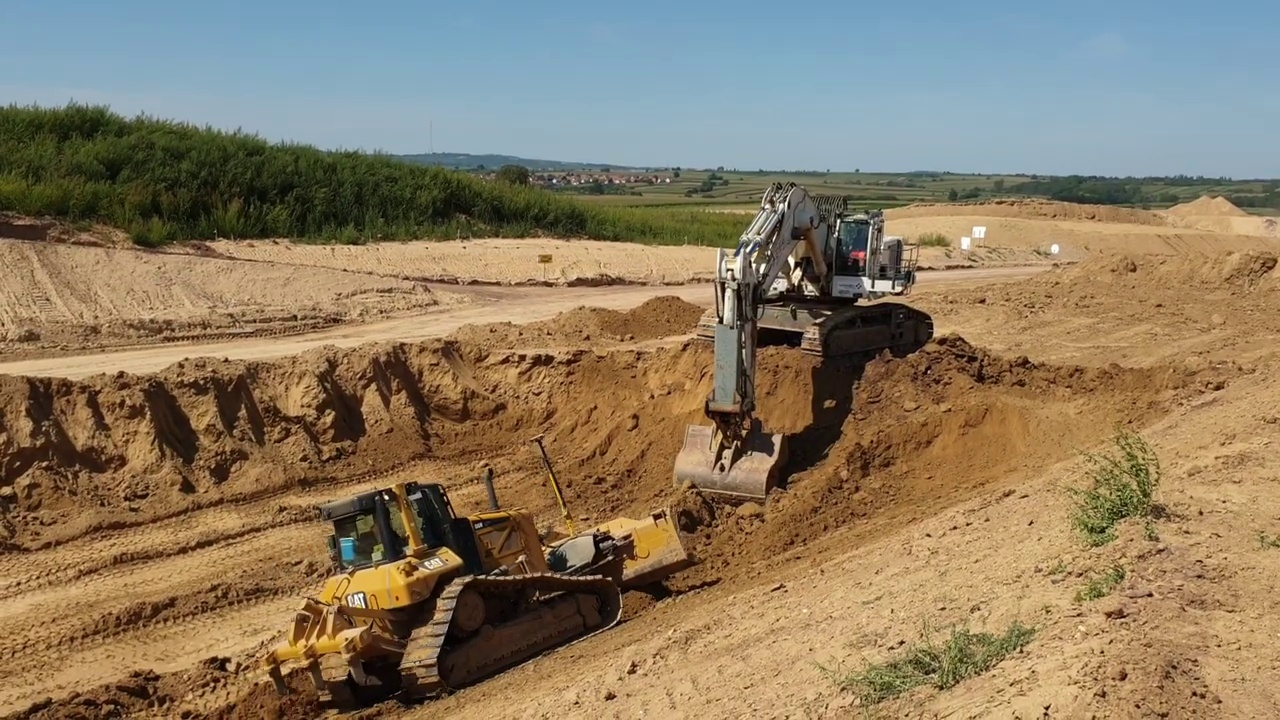bulldozer: (261, 430, 695, 710)
excavator: (671, 178, 936, 509)
